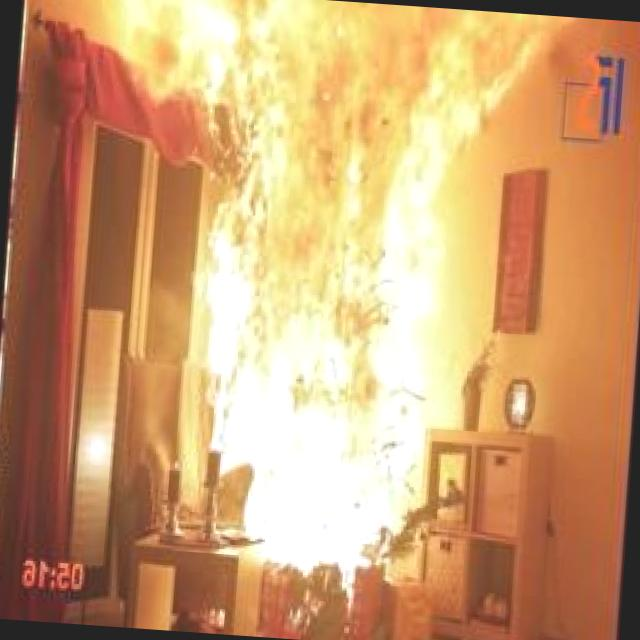fire: (109, 0, 562, 573)
